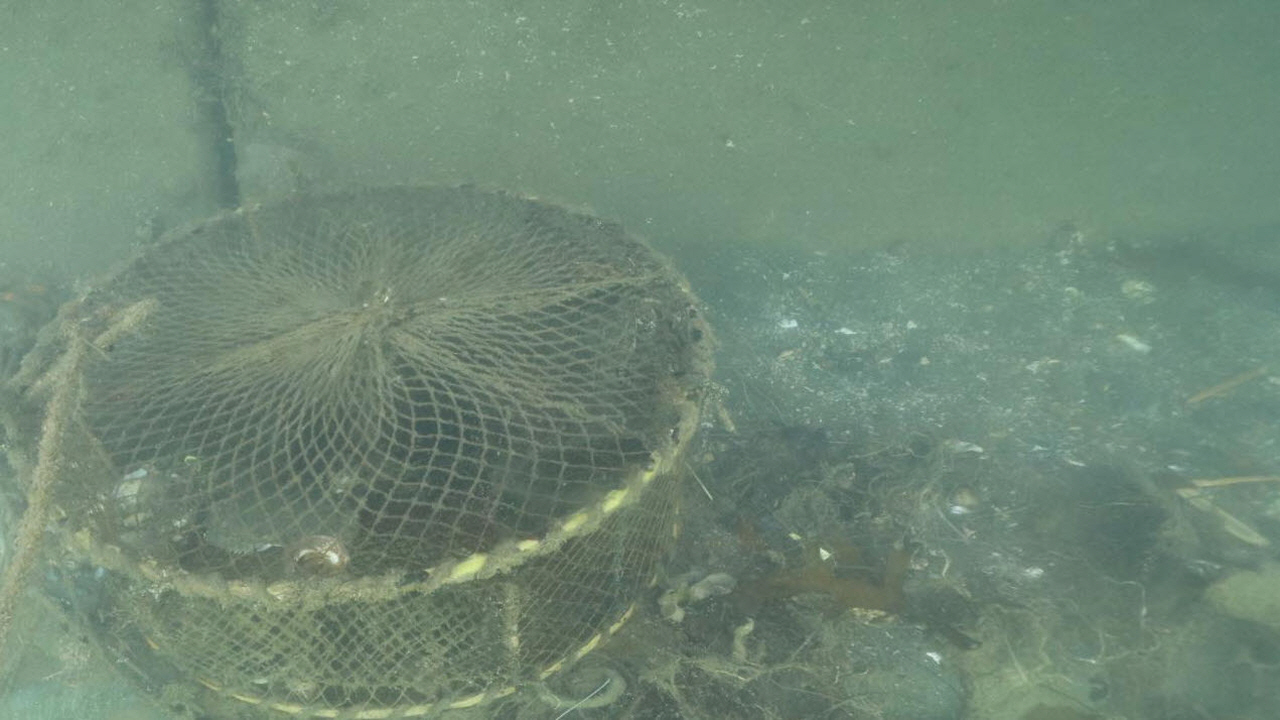circular fish trap: (7, 176, 716, 714)
